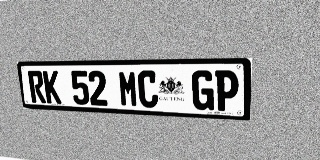2: (88, 71, 108, 106)
5: (70, 71, 90, 105)
C: (137, 70, 158, 108)
G: (192, 70, 214, 110)
K: (43, 71, 62, 104)
M: (118, 70, 139, 107)
P: (215, 70, 239, 112)
R: (27, 71, 46, 103)
